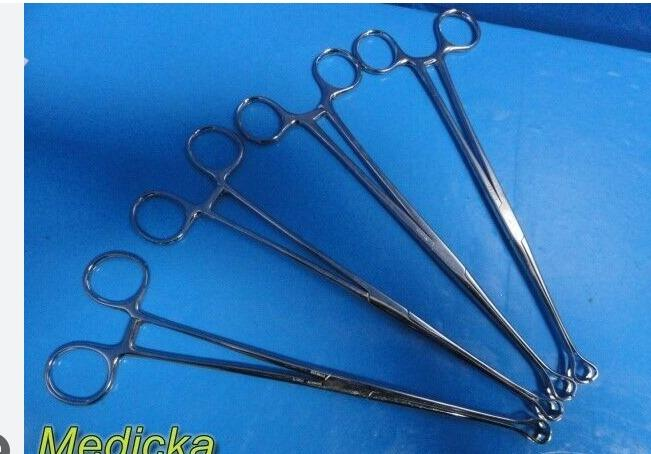Babcock Forceps: (129, 121, 565, 423), (233, 46, 579, 407), (41, 247, 555, 449), (351, 4, 599, 386)
